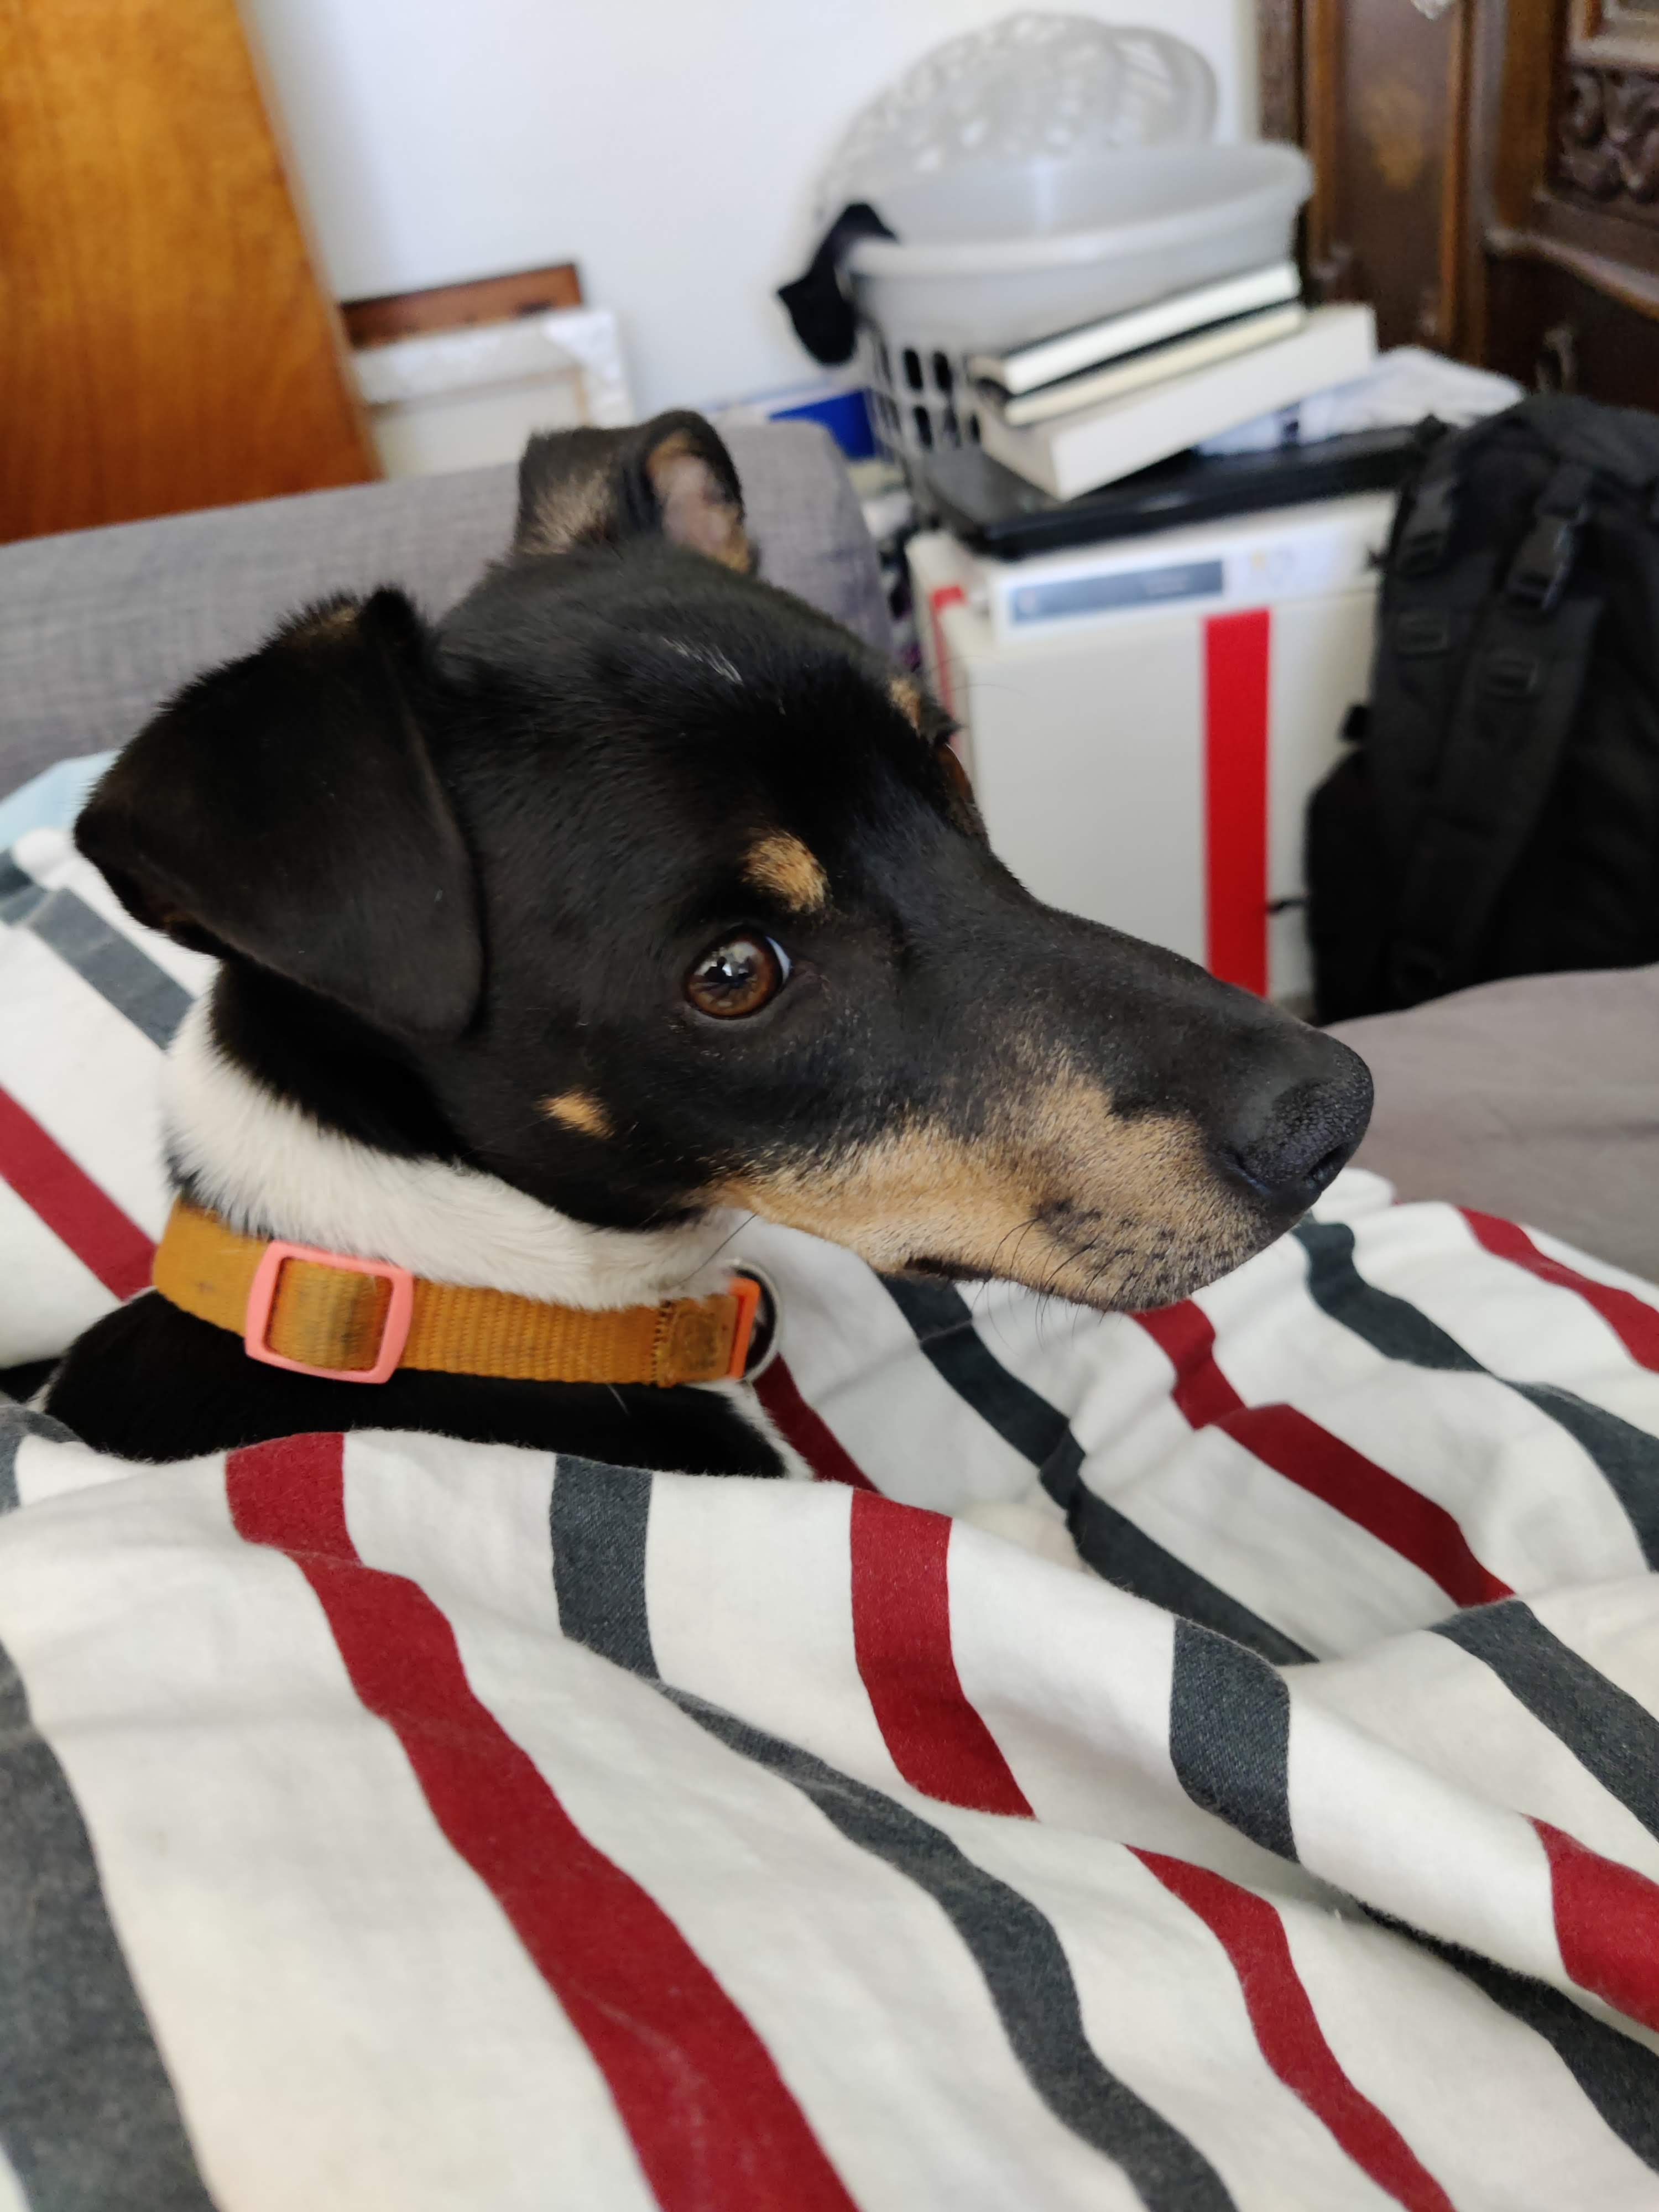Dog: (14, 388, 1392, 1484)
